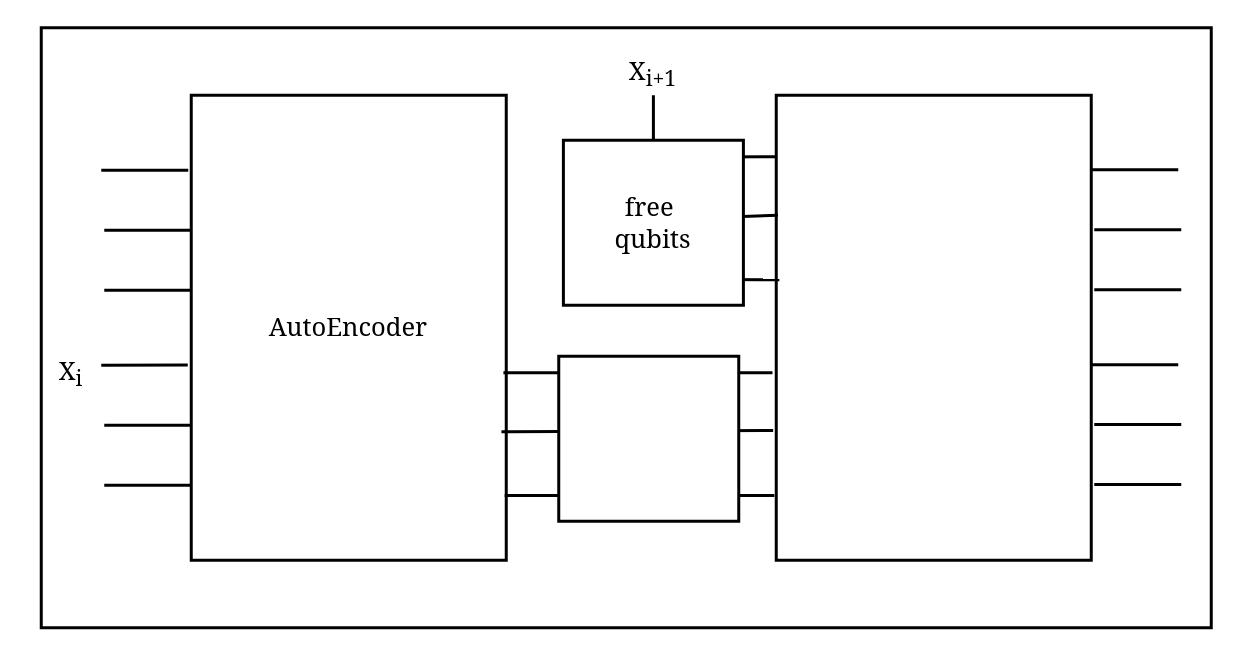
Some shapes in this 1238 by 654 pixel diagram are drawn without their labels. The shapes that lost their labels are listed below. From the top down, each one's centre as x and y in pixels, then its label:
At pixel 933 327: "VQC".
At pixel 648 438: "latent qubits".
